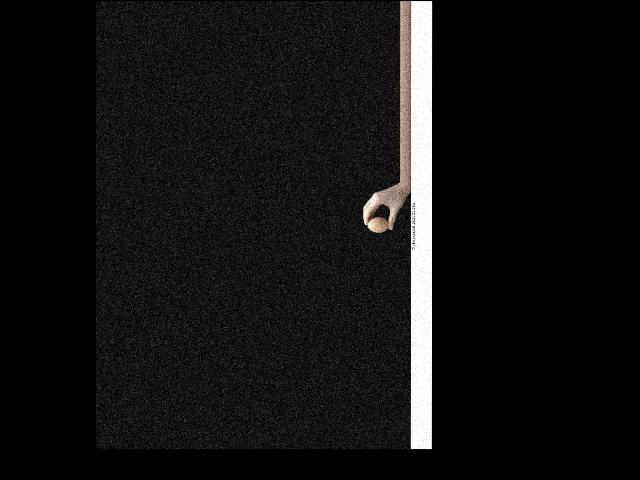egg: (367, 217, 388, 232)
